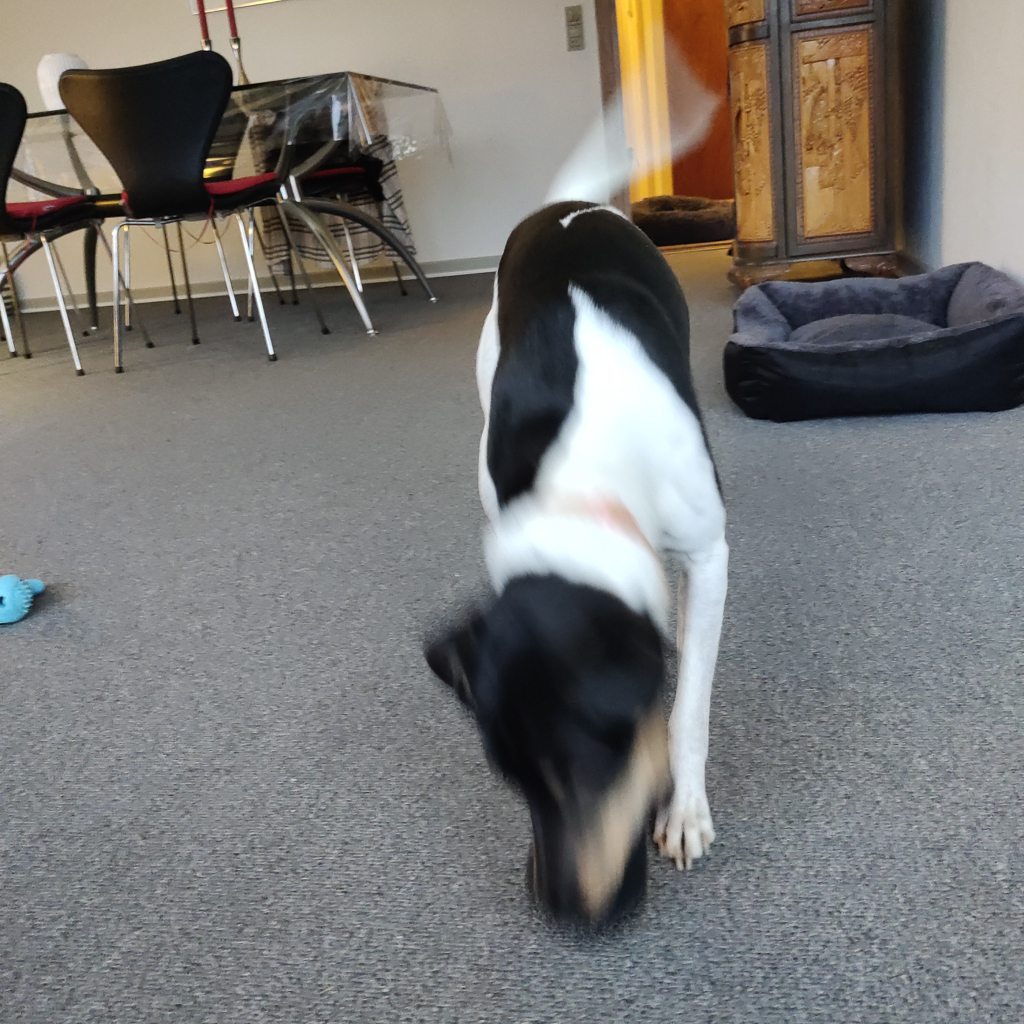Dog: (406, 16, 784, 963)
